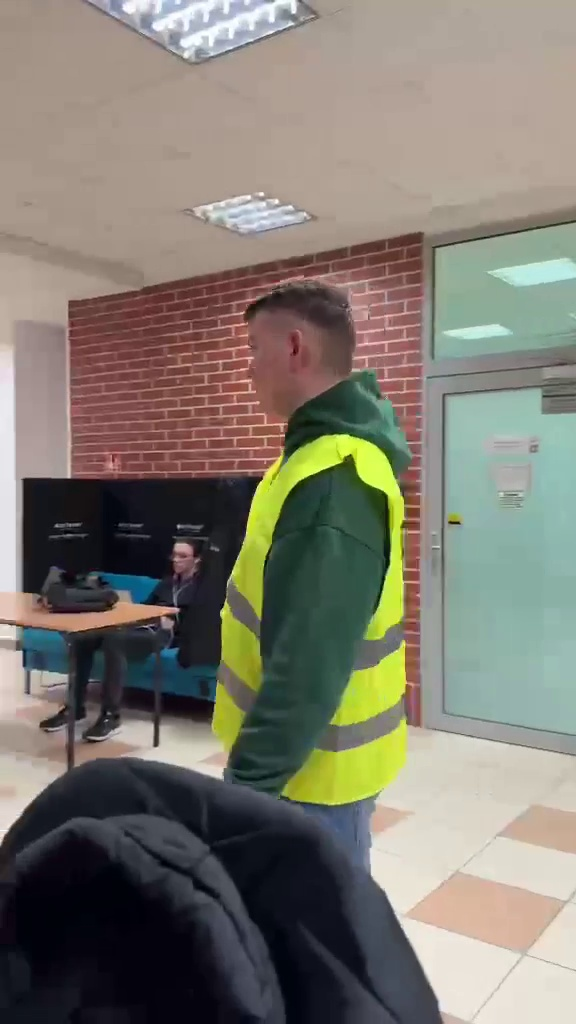no vest: (49, 527, 207, 750)
vest: (218, 279, 403, 827)
